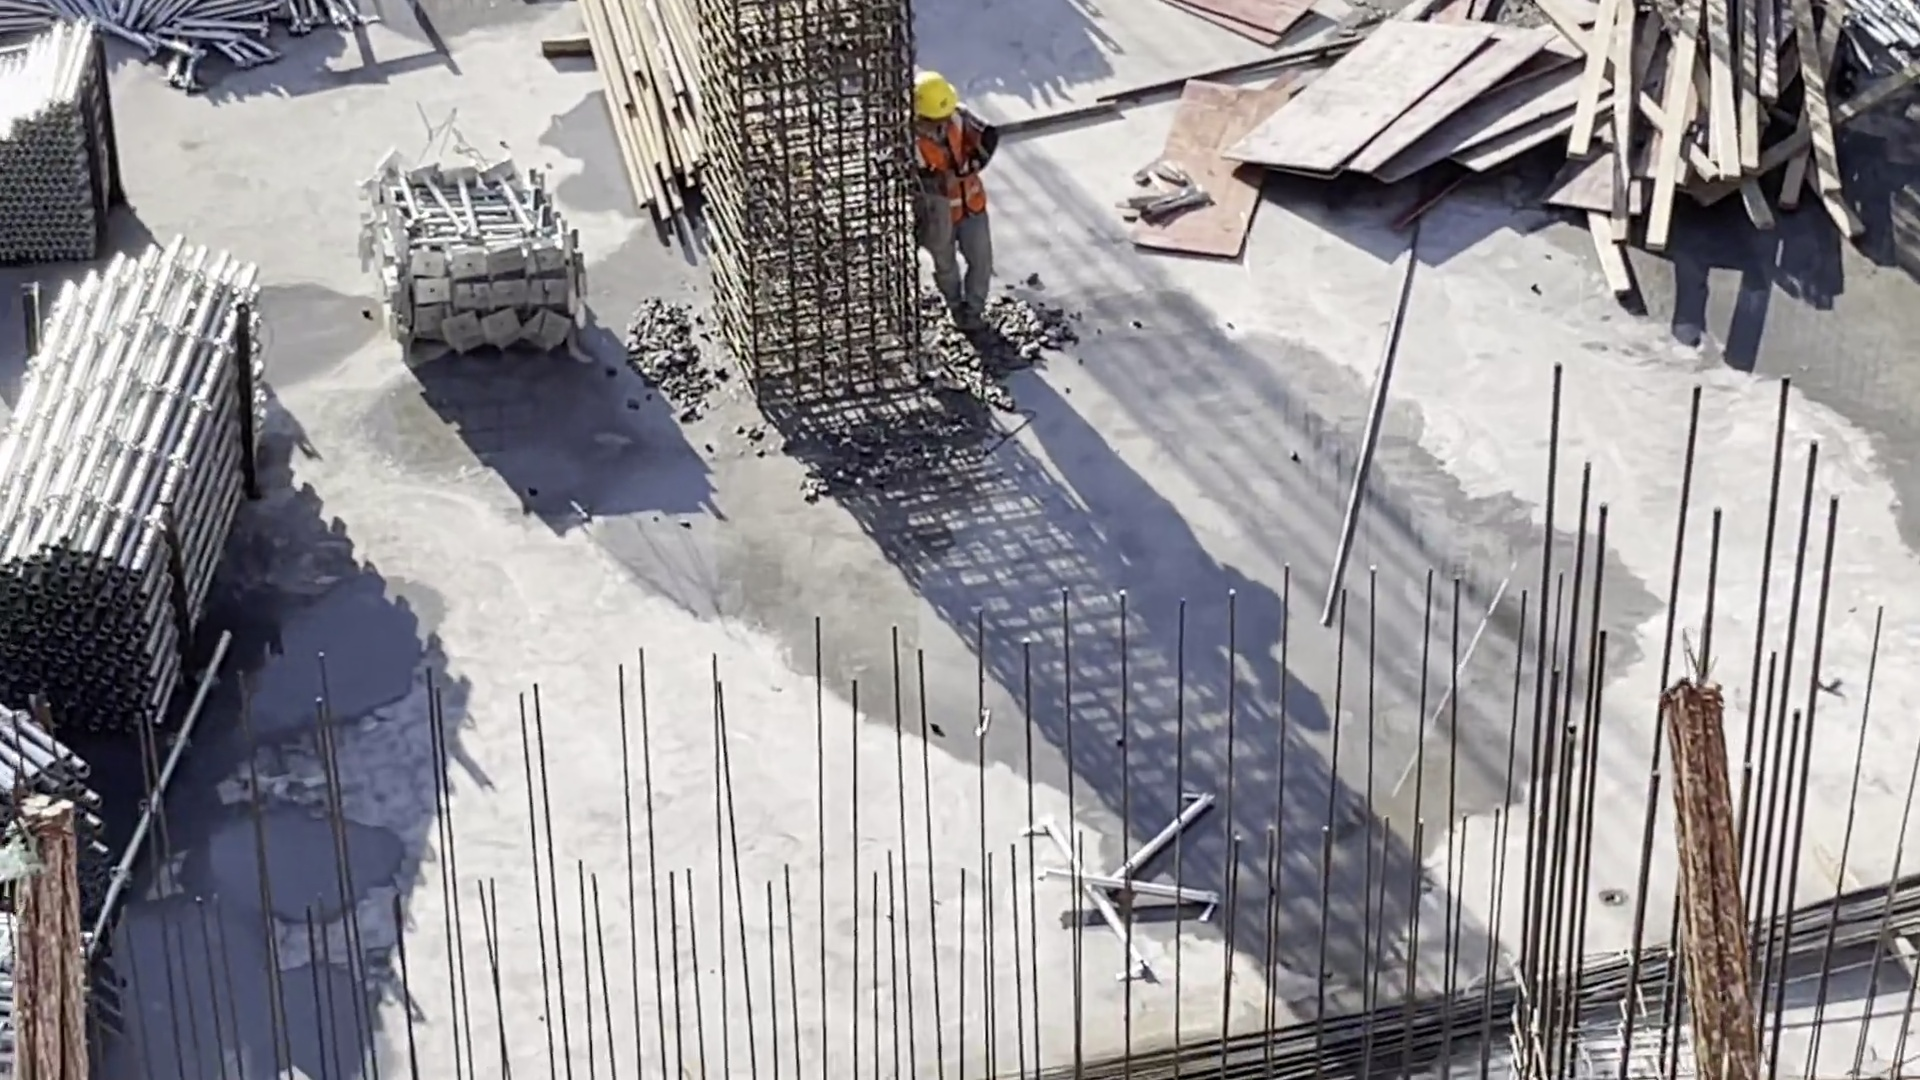board: (1254, 18, 1567, 204)
helmet: (910, 71, 962, 120)
person: (889, 68, 1036, 361)
rebar: (1075, 861, 1913, 1080)
scaffold: (18, 236, 291, 704), (364, 136, 576, 350), (1, 23, 129, 257), (1, 1, 344, 74)
vest: (910, 113, 994, 211)
wood: (1558, 4, 1837, 266)
